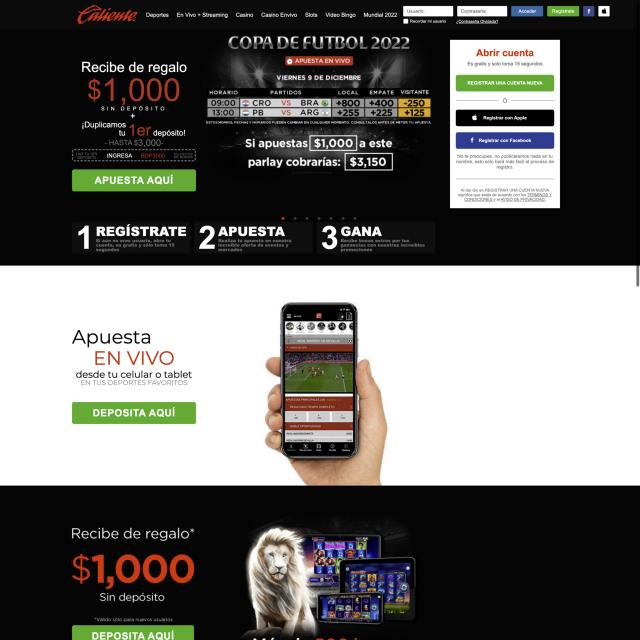input: (457, 6, 507, 17), (403, 6, 453, 16)
logo: (76, 4, 142, 26)
navigation: (144, 9, 400, 20)
